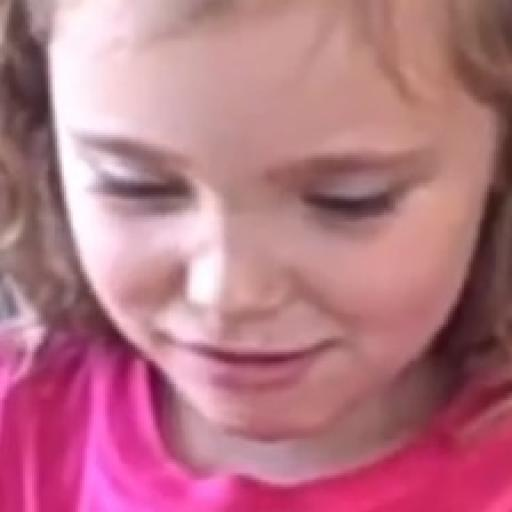Autism: (18, 1, 512, 461)
